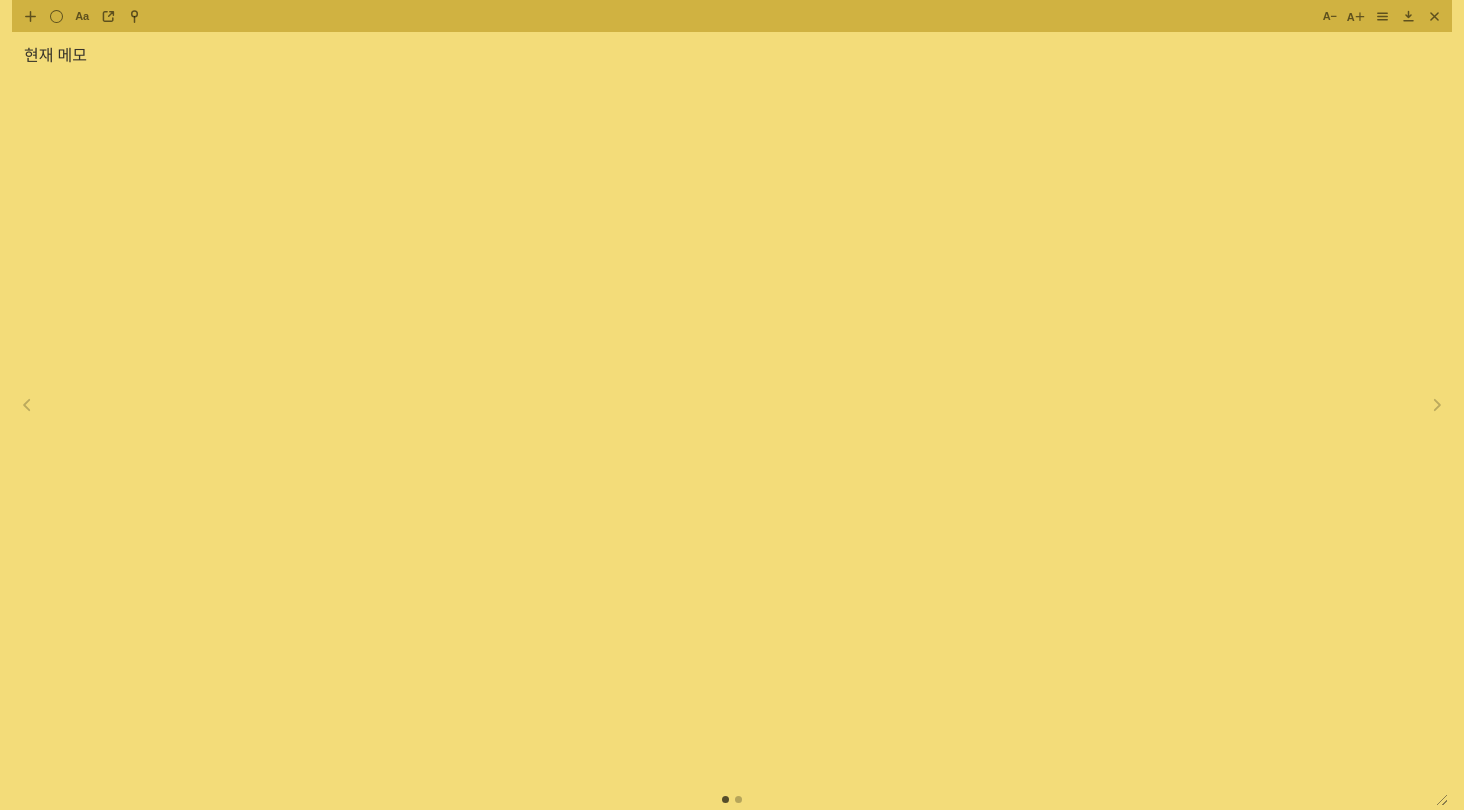
Test: NoteApp 팝아웃 (#74) › 현재 메모를 꺼내면 이 창은 반환된 다음 멤버를 표시한다
Click the button titled "모음집에서 꺼내기 (Ctrl+Shift+P)". click: (108, 16)
box: 96,4 -> 120,28
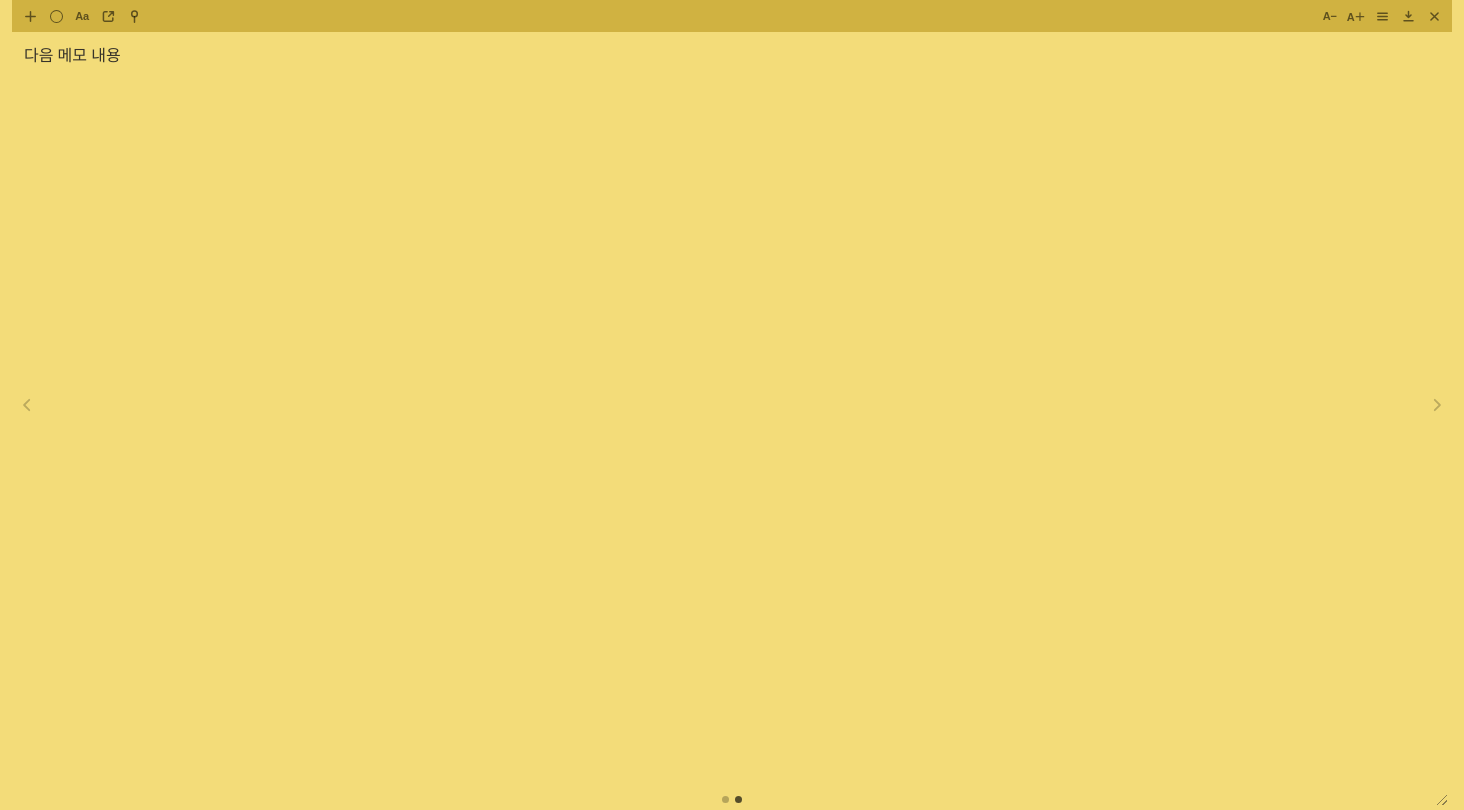
Expected: the text box "다음 메모 내용" is shown, 24,44 -> 121,66
